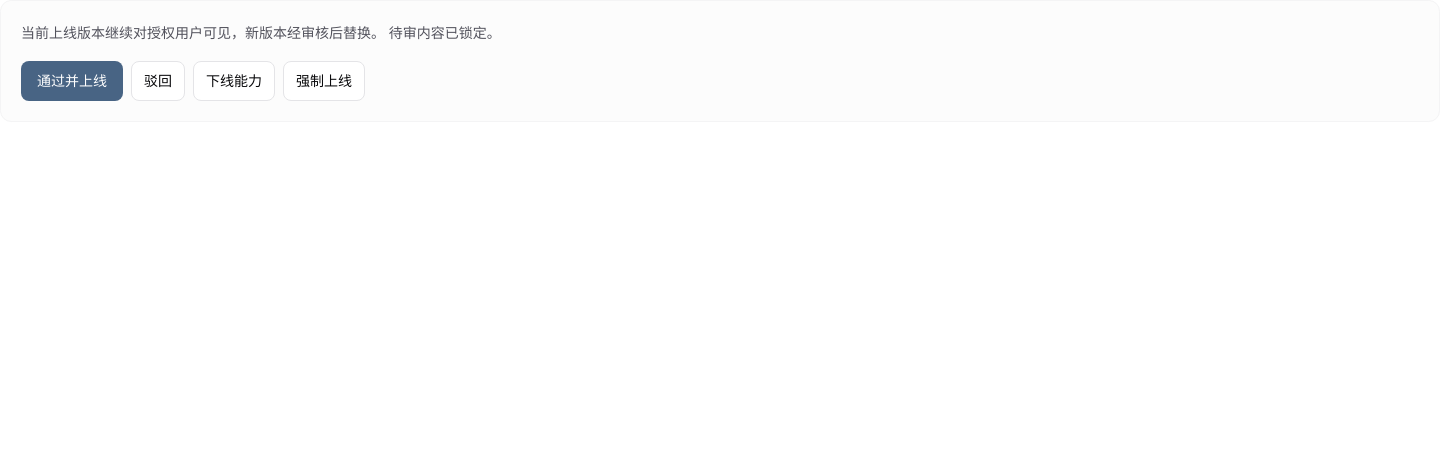
Test: requires a rejection reason and keeps it on a conflict
Click the button "驳回" at (158, 81), box [131,61,185,101]
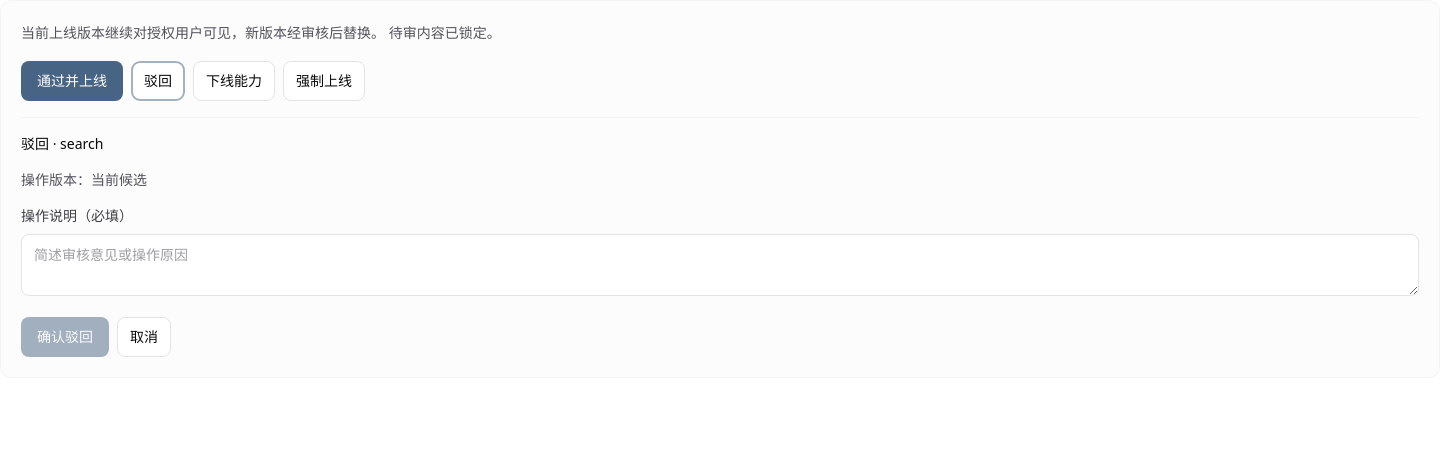
Expected: the button "确认驳回" is disabled, [21,317,109,357]
Type "请补充工具说明" into the text box labelled "操作说明（必填）" at (720, 265), box [21,234,1419,296]
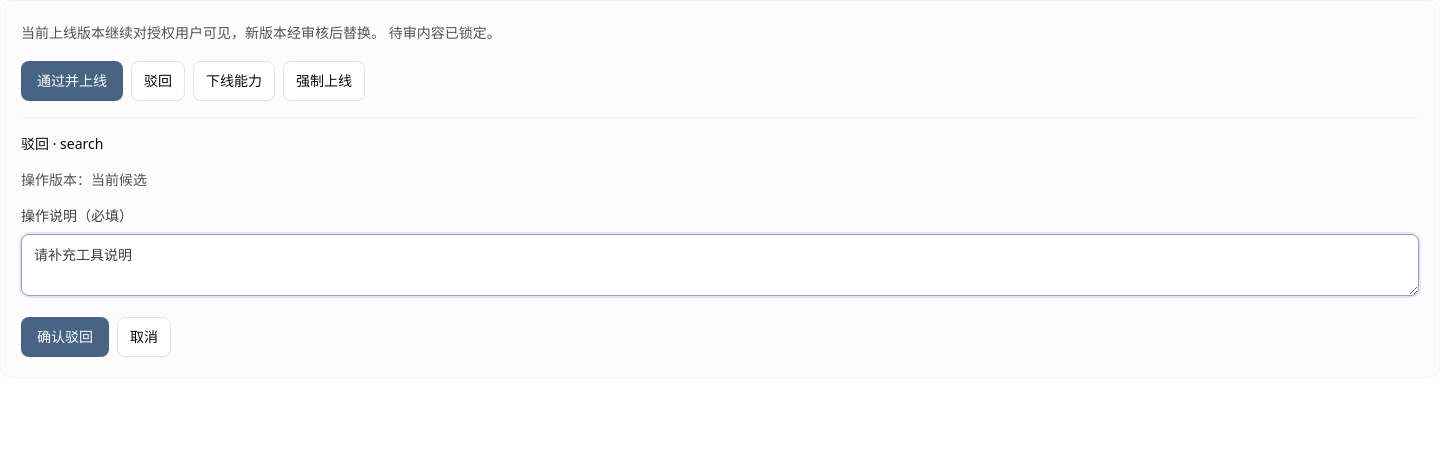
Click the button "确认驳回" at (65, 337), box [21,317,109,357]
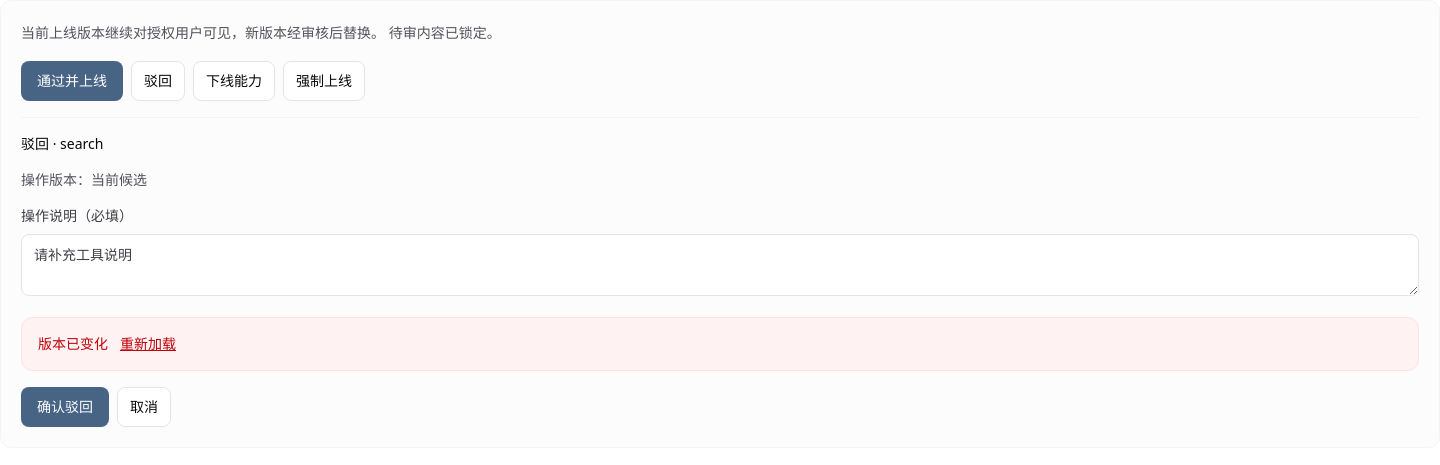
Expected: the message shows "版本已变化", [38,334,108,353]
